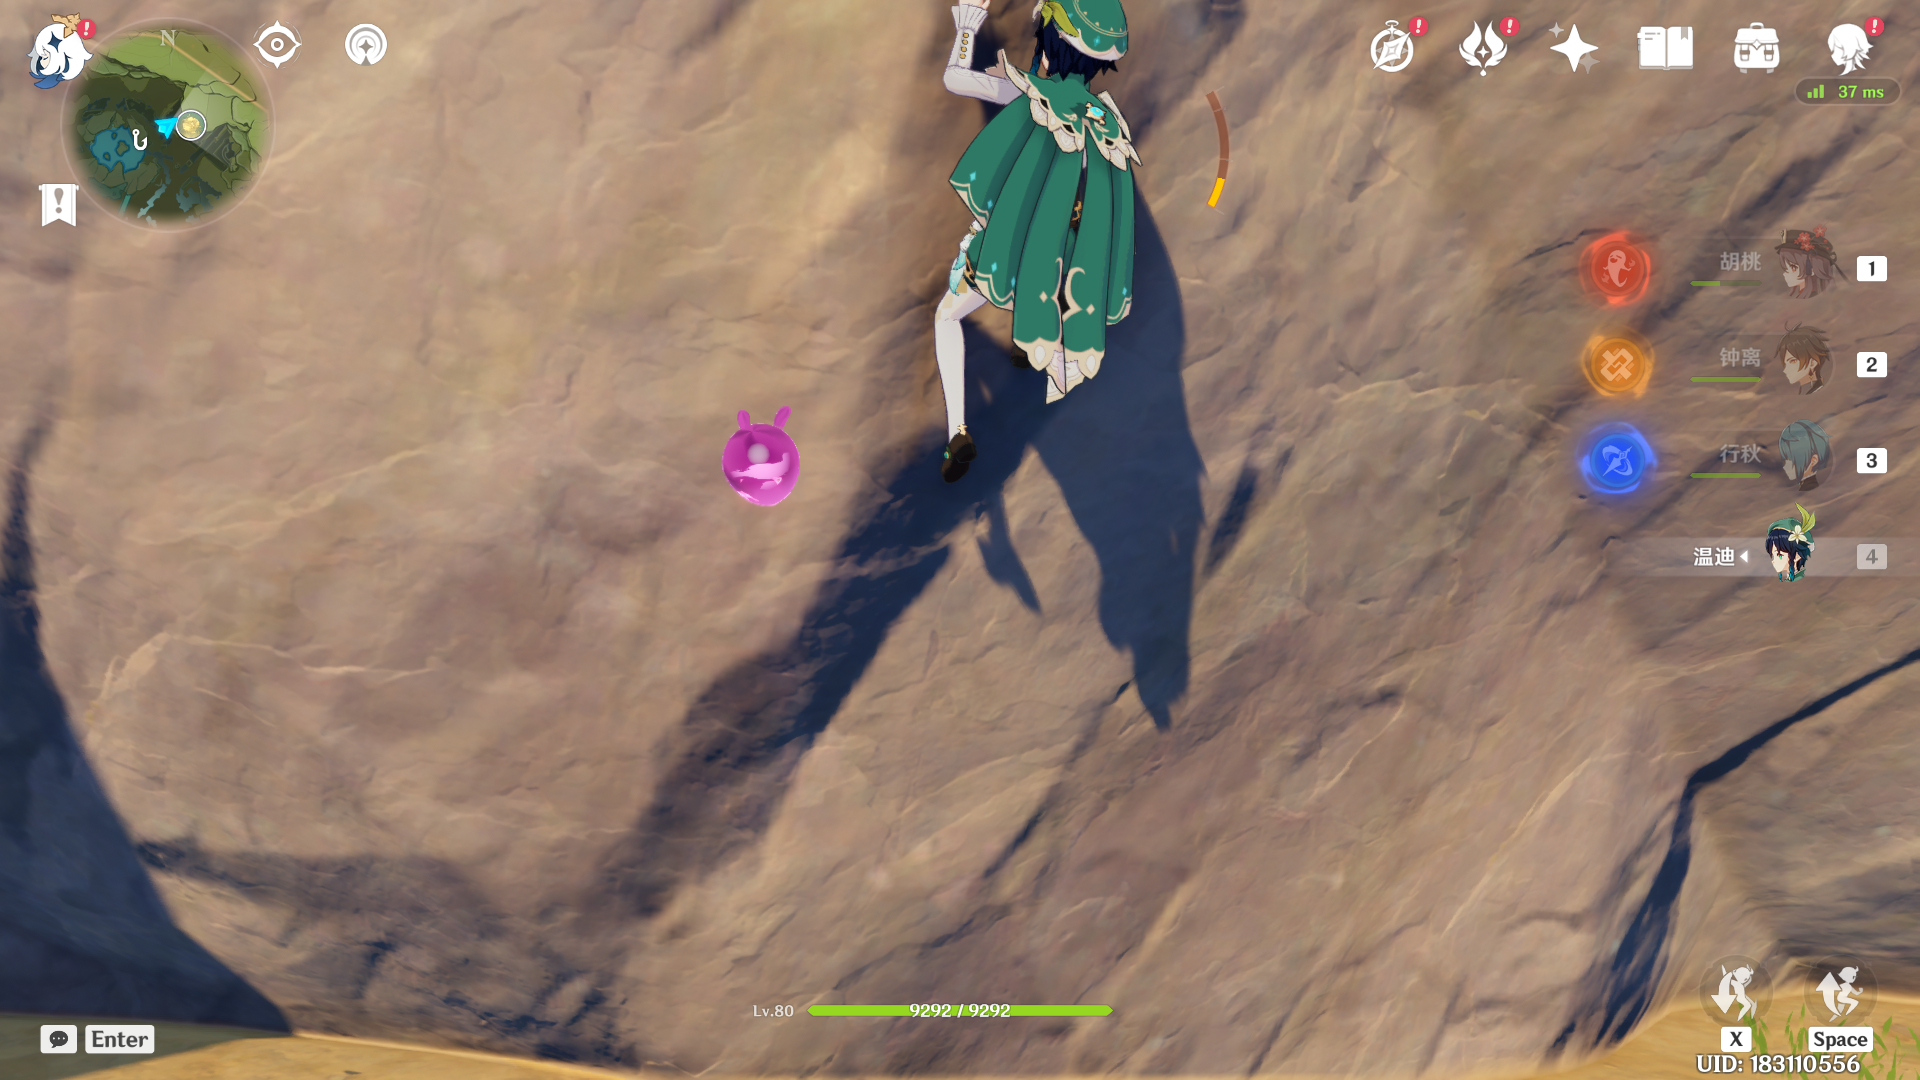character: (855, 1, 1204, 498)
